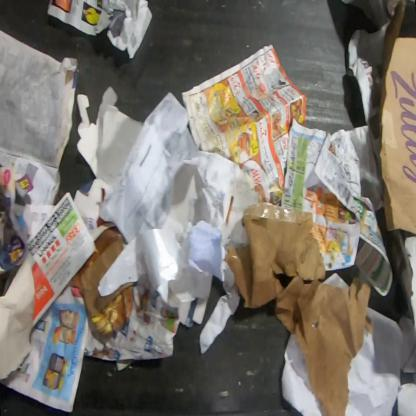cardboard: (73, 85, 145, 229), (378, 0, 415, 237), (72, 224, 136, 338), (53, 57, 81, 170)
soft_plastic: (97, 228, 184, 305)
